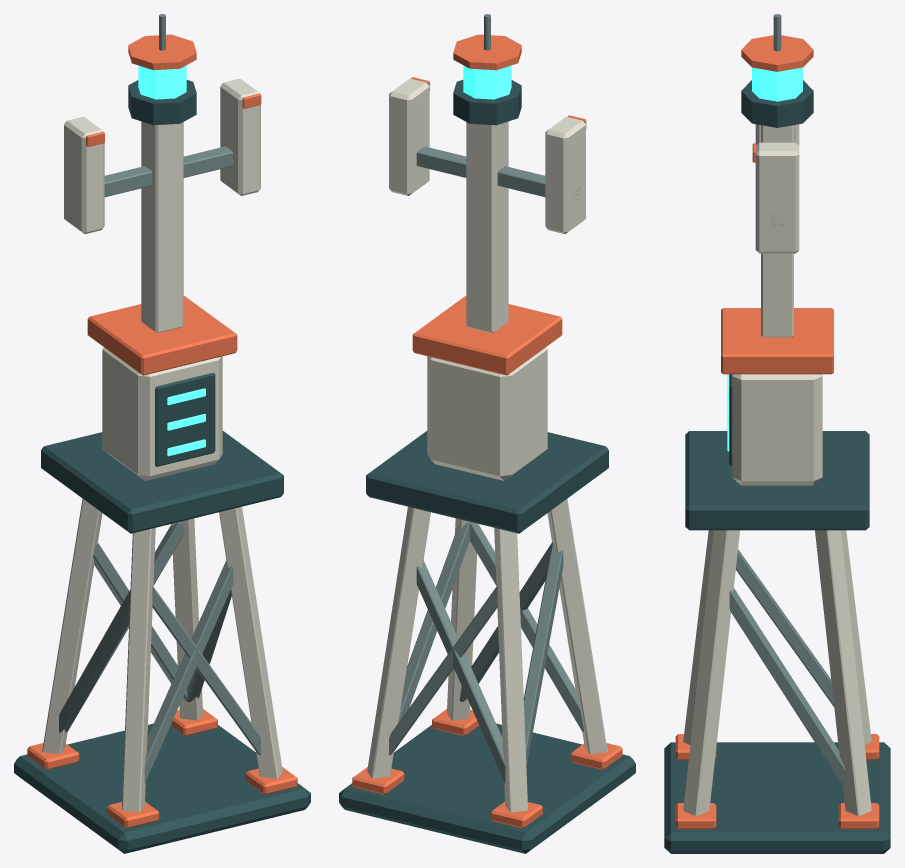
Rendered from signal_tower.glb.
3 renders of one model, left to right at view 1: azimuth 30°, elevation 25°; view 2: azimuth 150°, elevation 25°; view 3: azimuth 270°, elevation 25°, orthographic.
Parts seen in each view (by area): view 1: signal_tower; view 2: signal_tower; view 3: signal_tower.
Boxes of the visible parts, x1,y1,x2,y2 form: signal_tower: (14,14,310,853); signal_tower: (339,14,635,853); signal_tower: (664,14,890,853).
Bounding box in the file's own units: 1.5 × 5.8 × 1.5.
